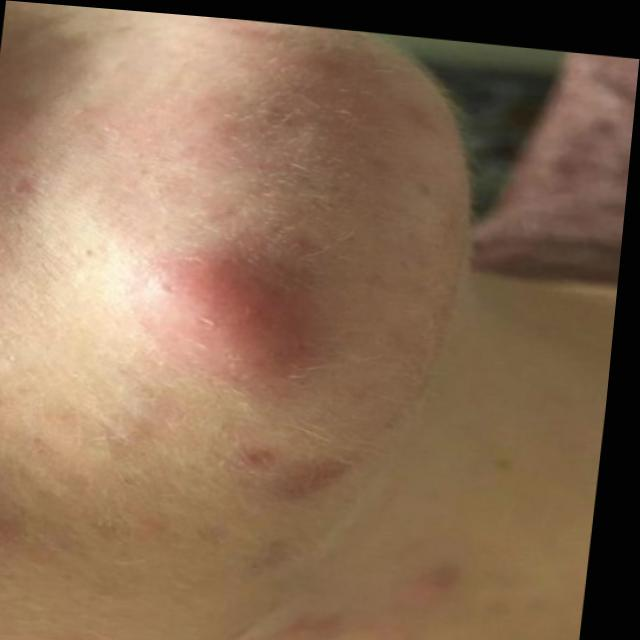nodule: (134, 230, 340, 397)
